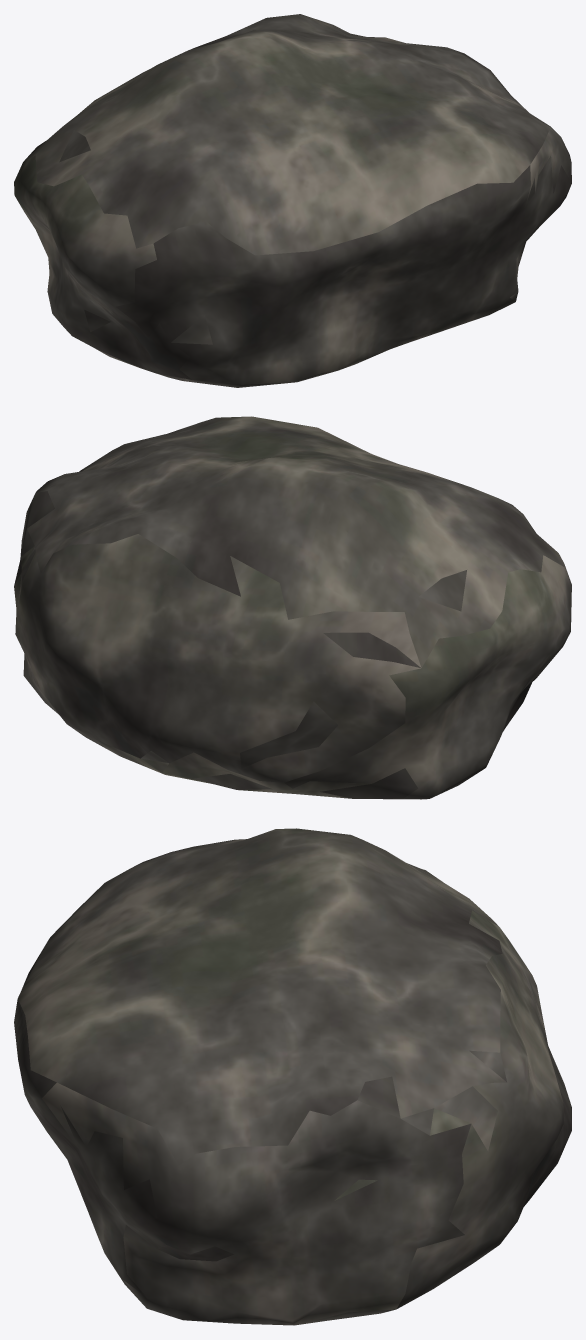
File: rock_medium_01.glb
3 renders of one model, top to bottom at view 1: azimuth 30°, elevation 25°; view 2: azimuth 150°, elevation 25°; view 3: azimuth 270°, elevation 25°, orthographic. The views are drawn at different scales.
Parts seen in each view (by area): view 1: rock_medium_01; view 2: rock_medium_01; view 3: rock_medium_01.
Part boxes in pixels (x1,y1,x2,y2): rock_medium_01: [14, 14, 571, 387]; rock_medium_01: [14, 416, 571, 799]; rock_medium_01: [14, 828, 571, 1325].
Size of what is drawn, in the model's own units: 1.56 by 0.8212 by 1.22.
Materials: 1 (1 with a texture image).
